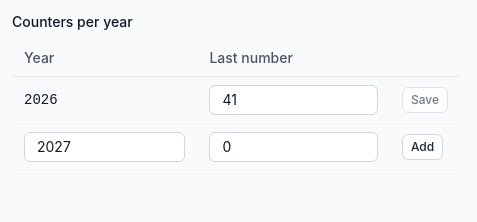
CountersEditor errors › shows the below_issued reason when lowering a counter under issued numbers
Replace the text in the field named "Last number for 2026" with "10" at (294, 100), box [209,85,378,115]
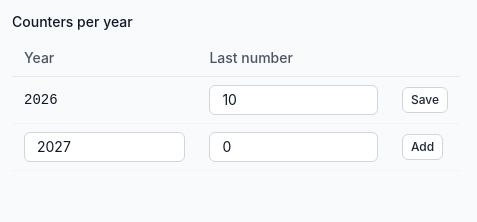
Click the button "Save" at (425, 100), box [402,87,448,113]
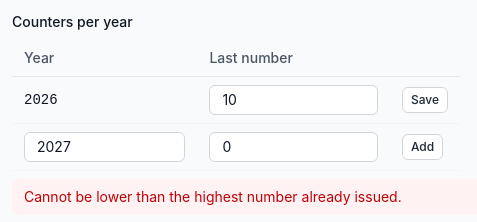
Expected: the message with test id "counter-error" reads "Cannot be lower than the highest number already issued.", [24,188,402,205]
